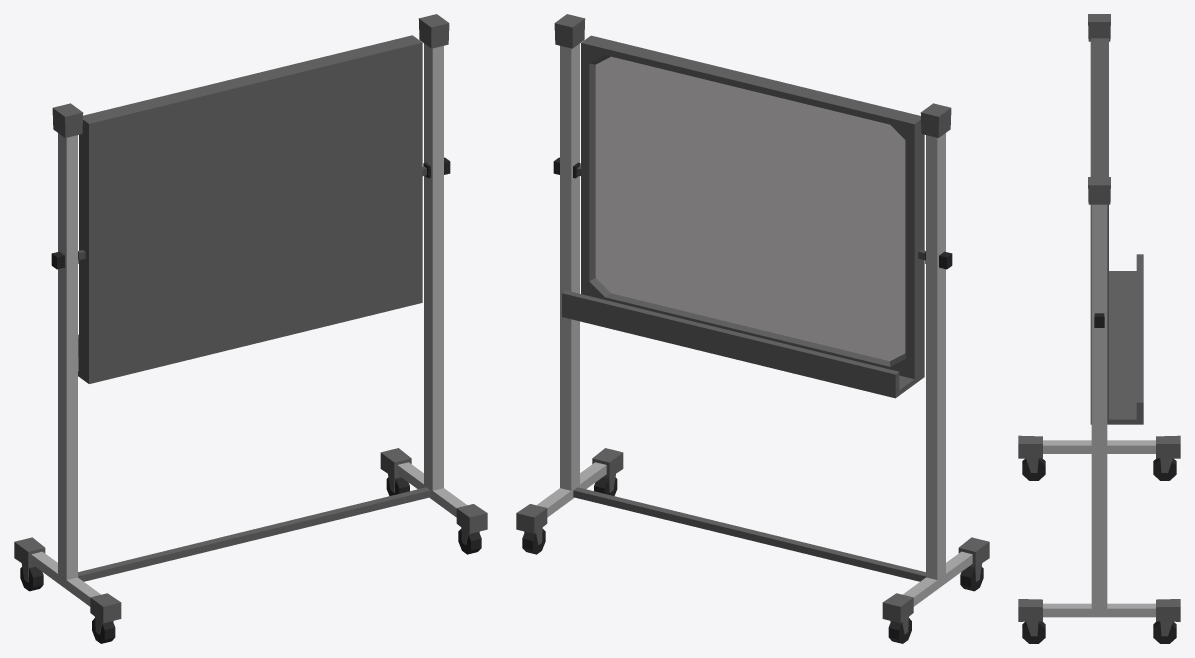
The model's file is mesh_whiteBoard.fbx.
3 renders of one model, left to right at view 1: azimuth 30°, elevation 25°; view 2: azimuth 150°, elevation 25°; view 3: azimuth 270°, elevation 25°, orthographic. The views are drawn at different scales.
Parts seen in each view (by area): view 1: pCube96, pCube101, pCube98; view 2: pCube96, pCube101, pCube98; view 3: pCube101, pCube96.
Part boxes in pixels (box(x1,y1,x2,y2)): pCube96: box(78, 35, 422, 383); pCube101: box(14, 14, 487, 643); pCube98: box(78, 487, 430, 581); pCube96: box(562, 35, 924, 398); pCube101: box(516, 14, 989, 643); pCube98: box(573, 487, 925, 581); pCube101: box(1018, 14, 1180, 643); pCube96: box(1090, 38, 1143, 424).
Bounding box in the file's own units: 47.94 × 58.72 × 18.78.
